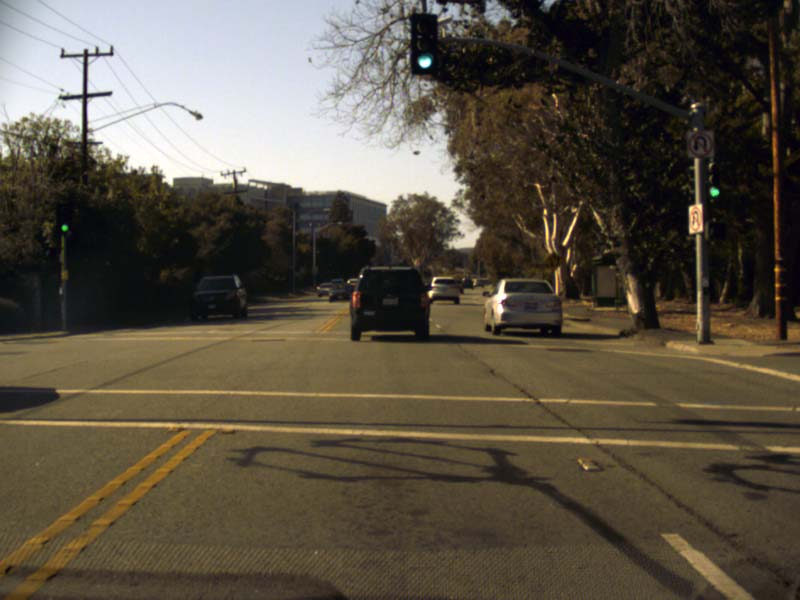Green: (409, 14, 438, 74), (708, 162, 720, 199), (59, 205, 70, 232)
